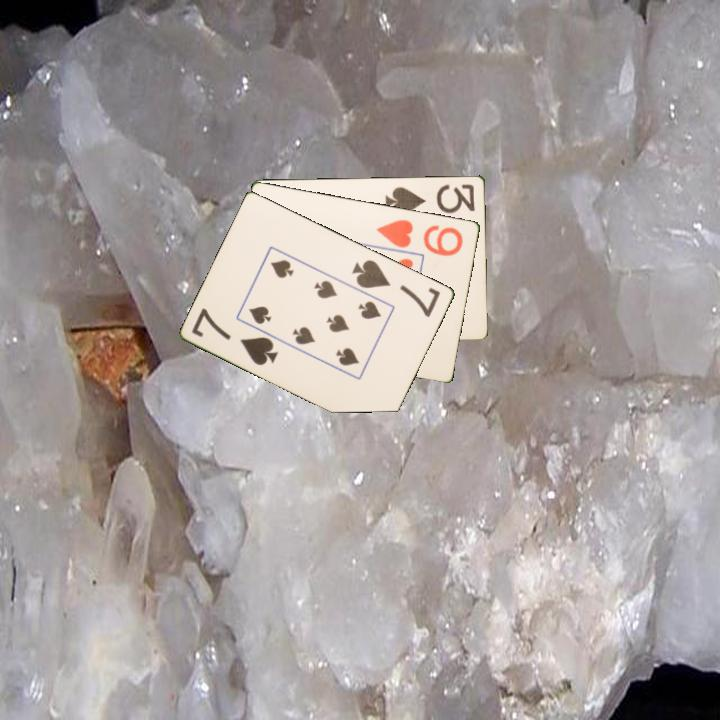3s: (382, 180, 478, 218)
7s: (349, 256, 444, 320), (188, 304, 281, 368)
9h: (373, 216, 466, 259)
